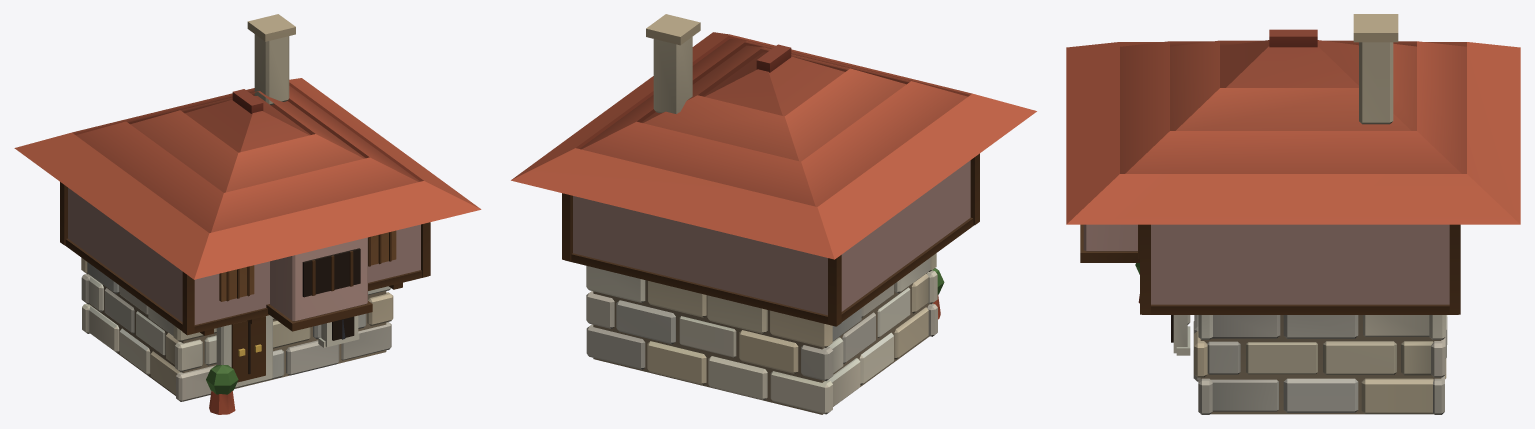
File: city_house_2.glb
3 renders of one model, left to right at view 1: azimuth 30°, elevation 25°; view 2: azimuth 150°, elevation 25°; view 3: azimuth 270°, elevation 25°, orthographic. The views are drawn at different scales.
Parts seen in each view (by area): view 1: city_house_2; view 2: city_house_2; view 3: city_house_2.
Boxes of the visible parts, box(x1,y1,x2,y2) form: city_house_2: box(14, 14, 481, 414); city_house_2: box(511, 14, 1036, 414); city_house_2: box(1066, 14, 1520, 414).
Bounding box in the file's own units: 0.609 × 0.5825 × 0.6597.
